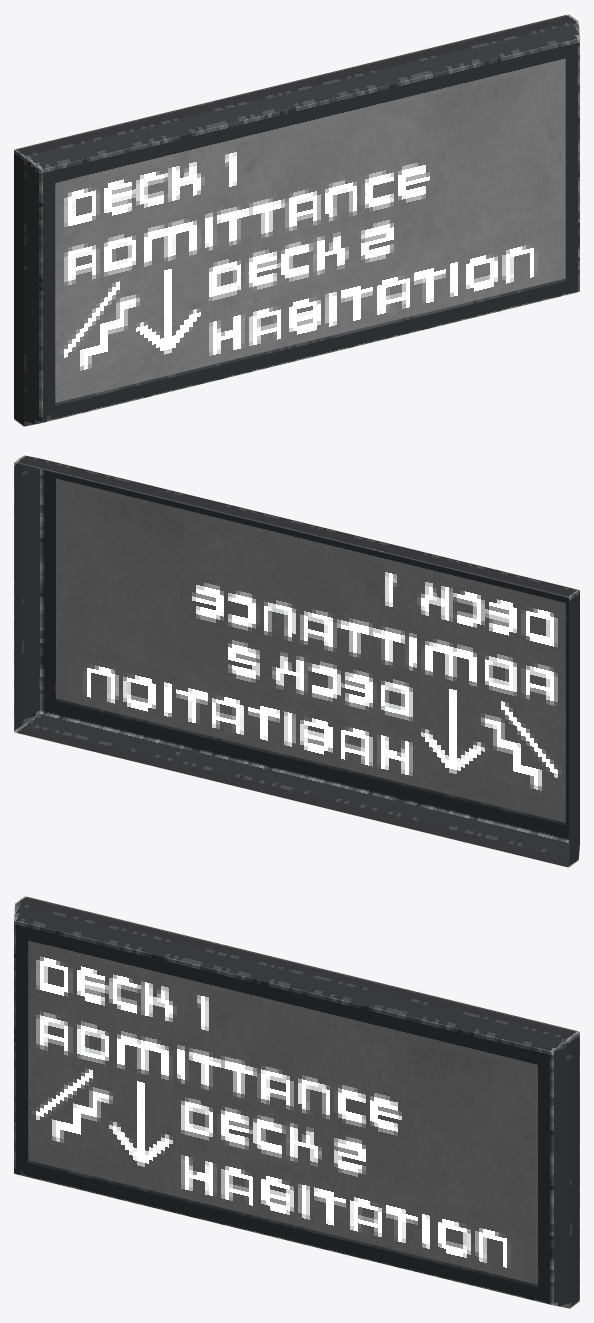
The model's file is deck1-down.glb.
The picture shows the model from 3 angles, top to bottom: view 1: azimuth 30°, elevation 25°; view 2: azimuth 150°, elevation 25°; view 3: azimuth 330°, elevation 25°; orthographic projection.
Visible parts, largest first — view 1: deck1-down; view 2: deck1-down; view 3: deck1-down.
Part boxes in pixels (x1,y1,x2,y2): deck1-down: [14, 14, 579, 426]; deck1-down: [14, 455, 579, 867]; deck1-down: [14, 896, 579, 1308].
Size of the model in its own units: 21.2 by 9.85 by 1.28.
1 material, 1 textured.
